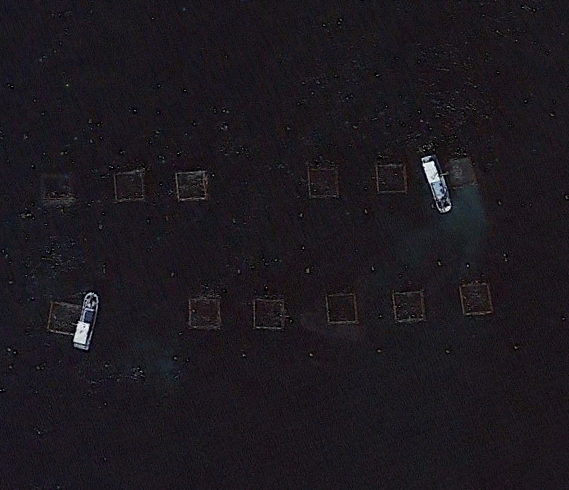ship: (419, 150, 454, 216), (70, 288, 102, 354)
square: (39, 294, 90, 340), (452, 275, 498, 323), (182, 290, 228, 335), (108, 161, 151, 207), (386, 285, 428, 330), (247, 295, 291, 335), (320, 287, 361, 328), (304, 162, 344, 204), (37, 168, 78, 208), (170, 167, 212, 205), (439, 149, 475, 193), (372, 159, 410, 198)
